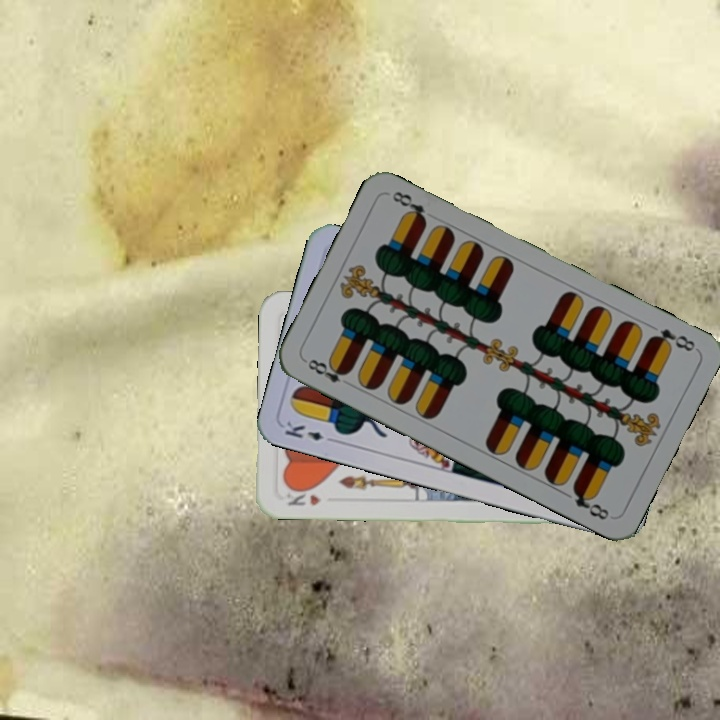E8: (301, 354, 354, 390), (645, 324, 698, 354)
EK: (281, 417, 339, 446)
HK: (283, 484, 323, 508)
